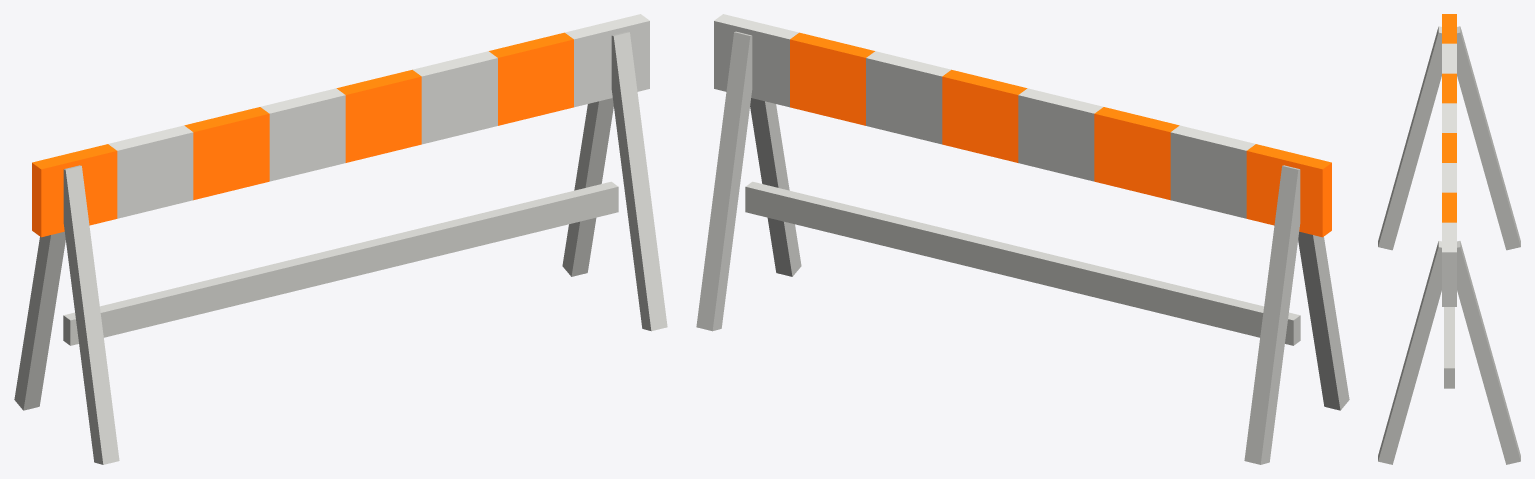
The model's file is barricade.glb.
3 renders of one model, left to right at view 1: azimuth 30°, elevation 25°; view 2: azimuth 150°, elevation 25°; view 3: azimuth 270°, elevation 25°, orthographic. The views are drawn at different scales.
Visible parts, largest first — view 1: barricade; view 2: barricade; view 3: barricade.
Boxes of the visible parts, x1,y1,x2,y2 form: barricade: (14,14,667,464); barricade: (696,14,1349,464); barricade: (1378,14,1520,464).
Bounding box in the file's own units: 3 × 1.3 × 0.7591.
